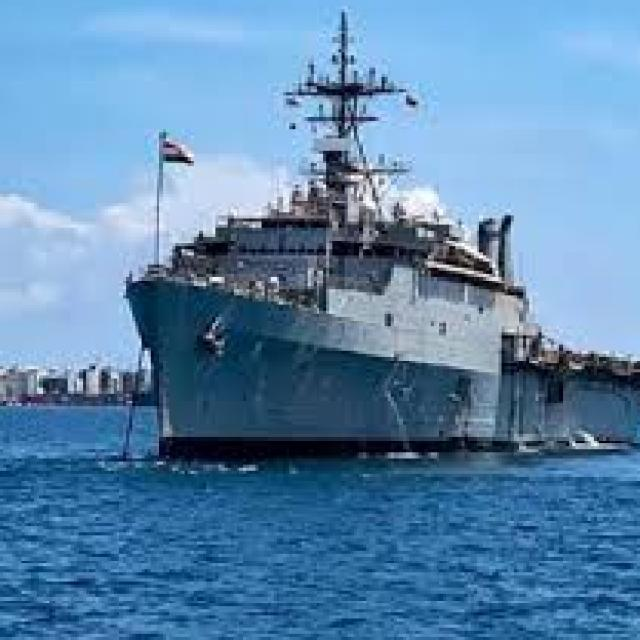navalvessels: (123, 22, 640, 464)
